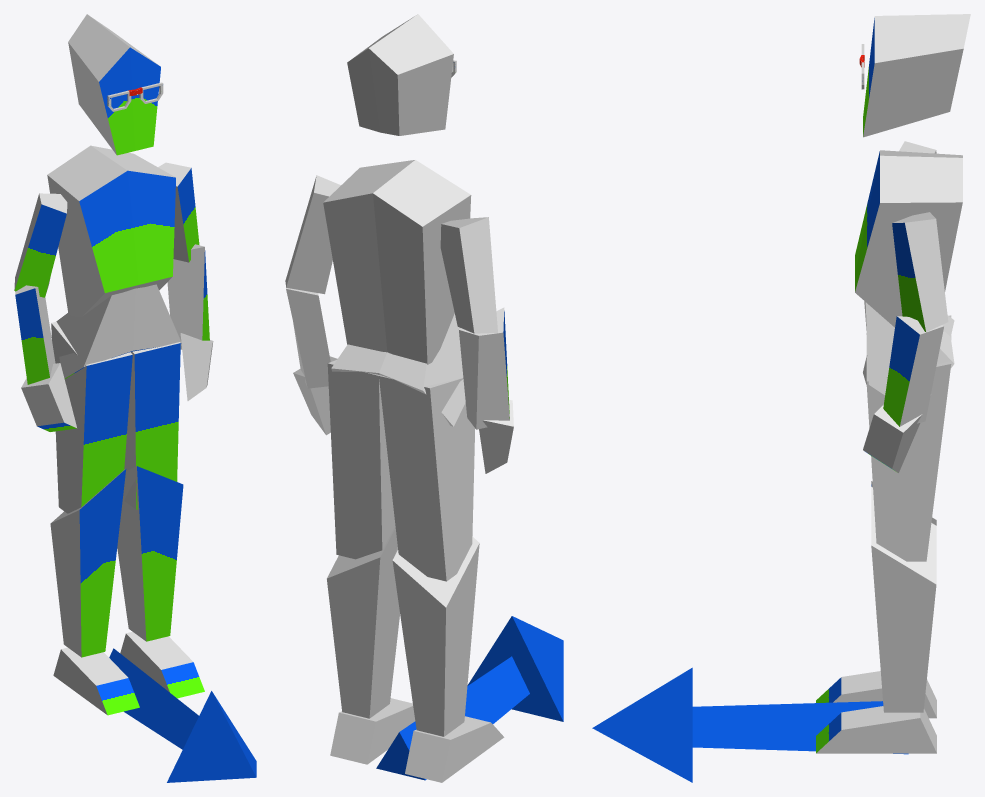
The model's file is PlayerMover.fbx.
3 renders of one model, left to right at view 1: azimuth 30°, elevation 25°; view 2: azimuth 150°, elevation 25°; view 3: azimuth 270°, elevation 25°, orthographic. The views are drawn at different scales.
Parts seen in each view (by area): view 1: pathNode; view 2: pathNode; view 3: pathNode.
Boxes of the visible parts, x1,y1,x2,y2 form: pathNode: (14, 14, 256, 782); pathNode: (285, 14, 563, 782); pathNode: (592, 14, 970, 782).
Size of the model in its own units: 62.43 by 207 by 95.4.
